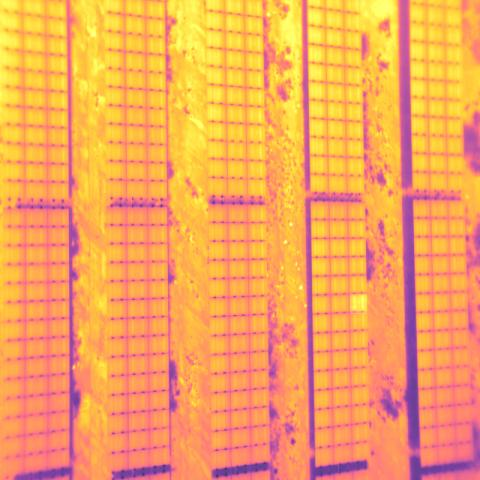fault: (350, 294, 367, 314)
